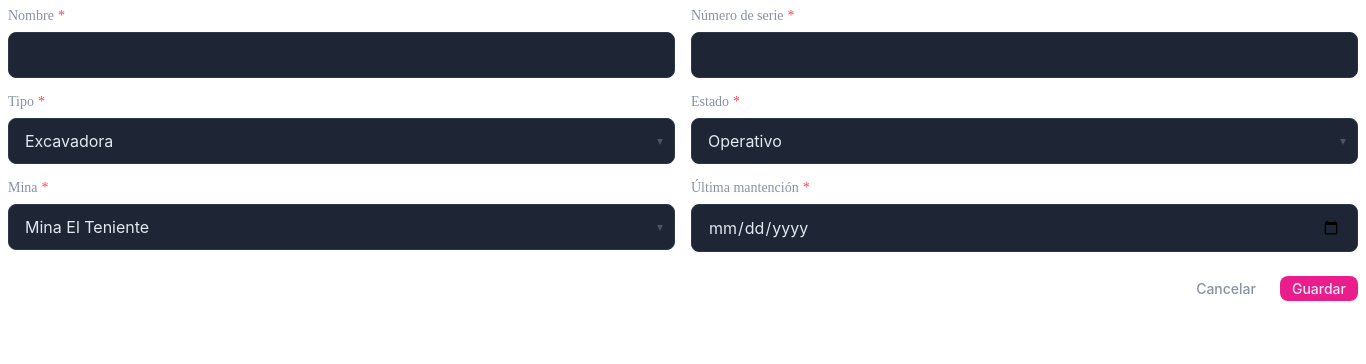
EquipmentForm › muestra error cuando el nombre tiene menos de 2 caracteres
The width and height of the screenshot is (1366, 364).
Type "A" into the field labelled "Nombre*" at (342, 55), box [8, 32, 675, 78]
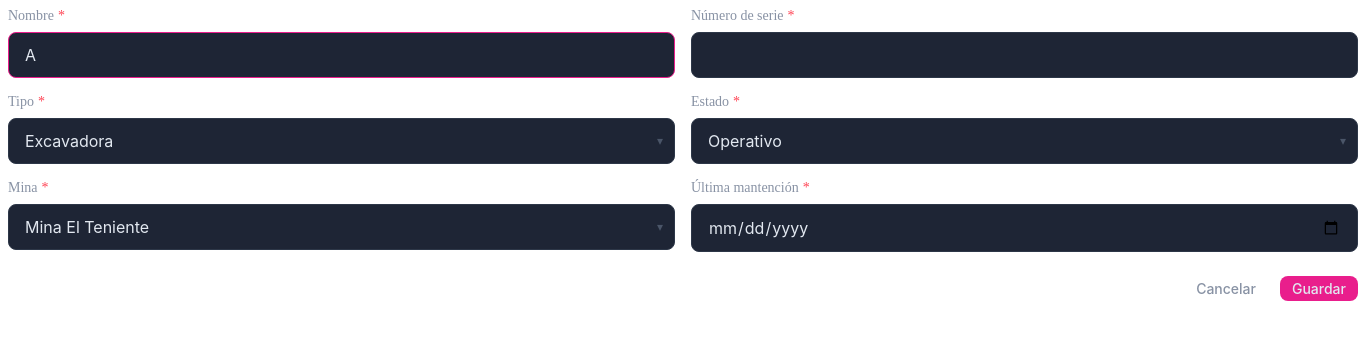
Click the button "Guardar" at (1319, 288), box [1280, 276, 1358, 301]
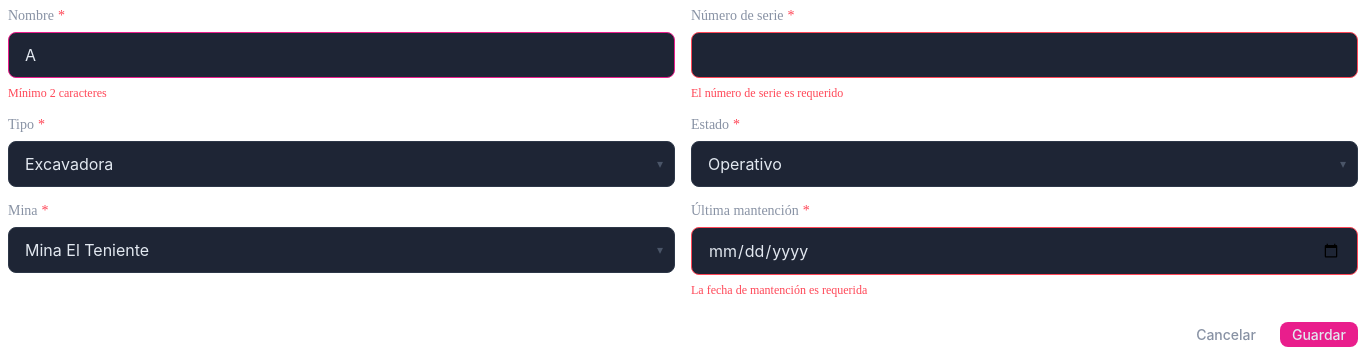
Check: the text "Mínimo 2 caracteres" is shown, box [8, 86, 107, 100]
